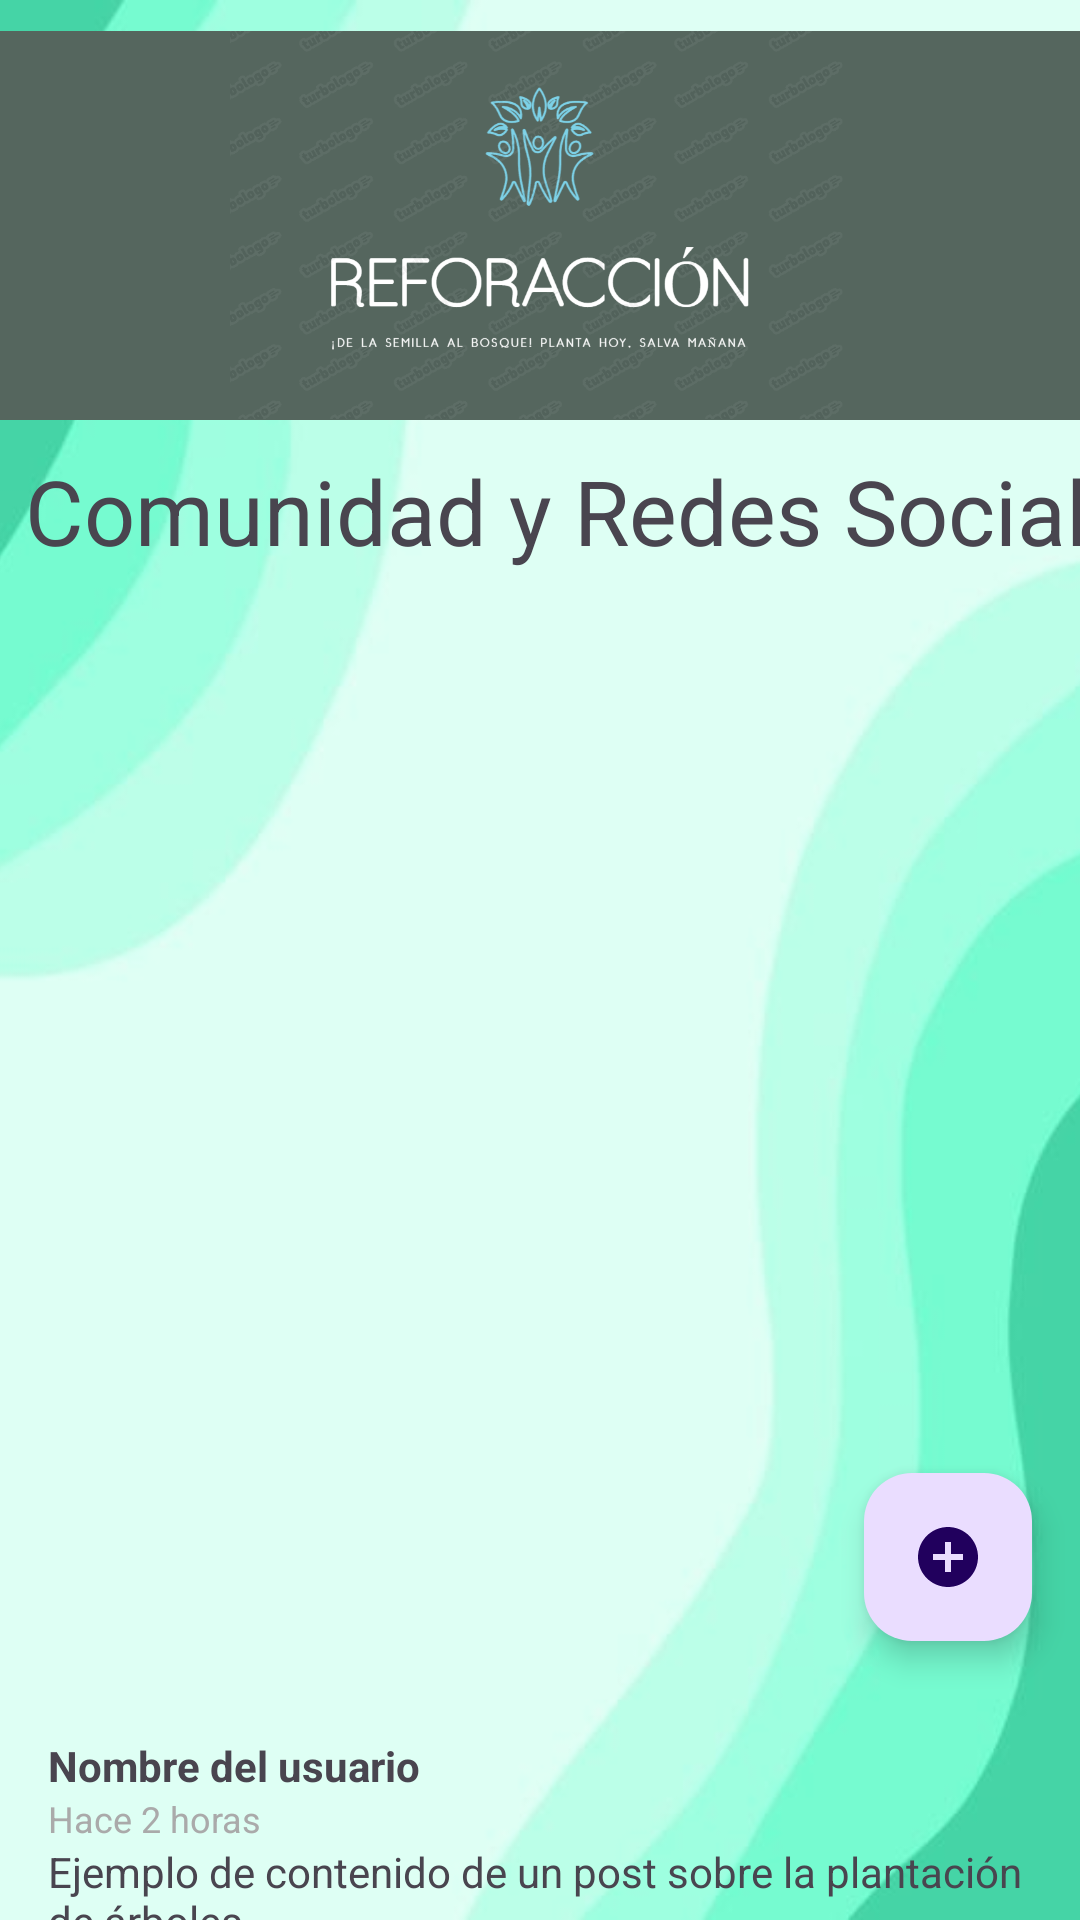

Icon click points for this 1080×1920 phone screenshot, format (x=x, y=y):
Add Post: (x=948, y=1557)
